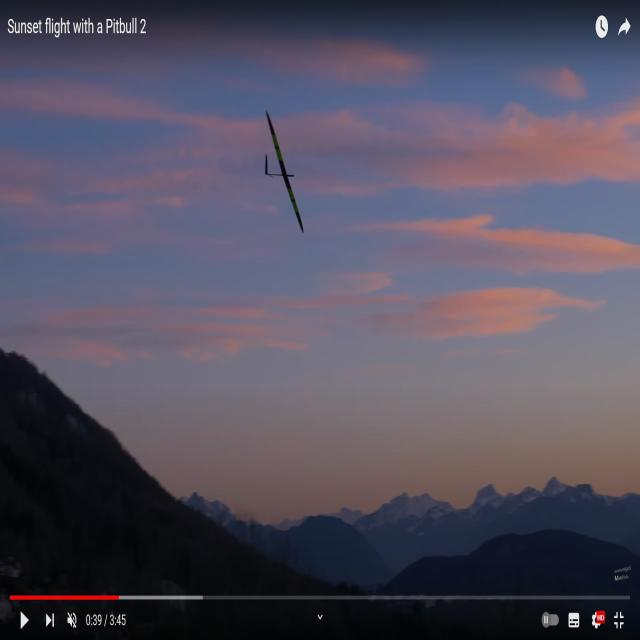iha: (257, 141, 306, 203)
